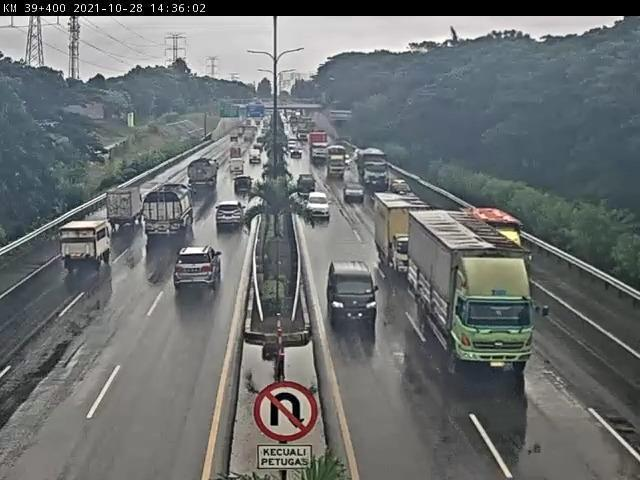car: (323, 259, 384, 321), (164, 244, 226, 298), (98, 191, 136, 232), (213, 206, 246, 240), (302, 186, 330, 217), (294, 170, 321, 193), (342, 178, 365, 201), (343, 302, 344, 313)
truck: (406, 208, 520, 356), (457, 202, 534, 250), (54, 222, 109, 278), (372, 192, 411, 267), (142, 190, 197, 241), (187, 155, 221, 195), (357, 151, 389, 193), (324, 145, 351, 179)
